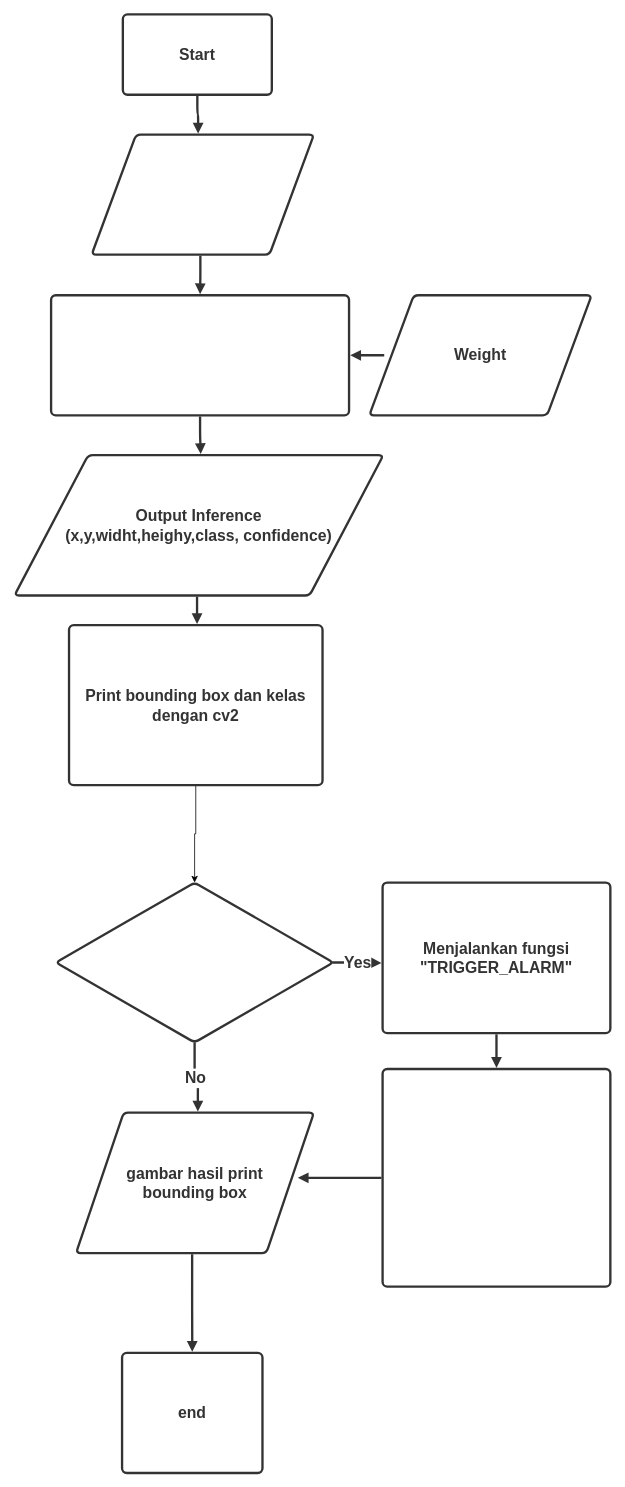
Some shapes in this 625 by 1487 pixel diagram are drawn without their labels. Each missing label, with the centre of its shape:
Apakah dalam prediksi terdapat kelas "no_helmet" ?: [194,962]
Inference dengan model YOLOv5: [200,355]
Input Video / Gambar: [202,194]
Print tulisan "NO HELMET DETECTED" dengan cv2 di gambar hasil print bounding box: [496,1177]
